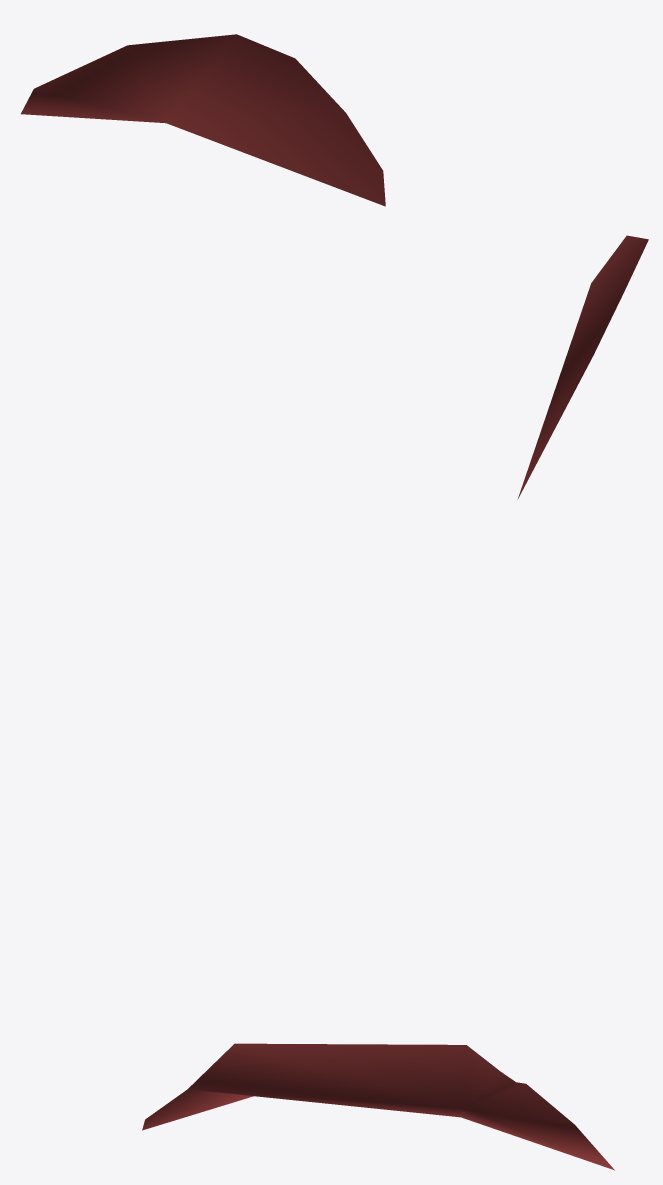
File: flexor-digitorum-brevis-el.glb
3 views of the same model, one above another, from view 1: azimuth 30°, elevation 25°; view 2: azimuth 150°, elevation 25°; view 3: azimuth 270°, elevation 25° (orthographic). The views are drawn at different scales.
Visible parts, largest first — view 1: Flexor digitorum brevis.el; view 2: Flexor digitorum brevis.el; view 3: Flexor digitorum brevis.el.
Boxes of the visible parts, bbox=[...] form: Flexor digitorum brevis.el: bbox=[21, 34, 385, 206]; Flexor digitorum brevis.el: bbox=[517, 235, 648, 499]; Flexor digitorum brevis.el: bbox=[142, 1043, 614, 1170].
Bounding box in the file's own units: 0.00787 × 0.00393 × 0.00722.
